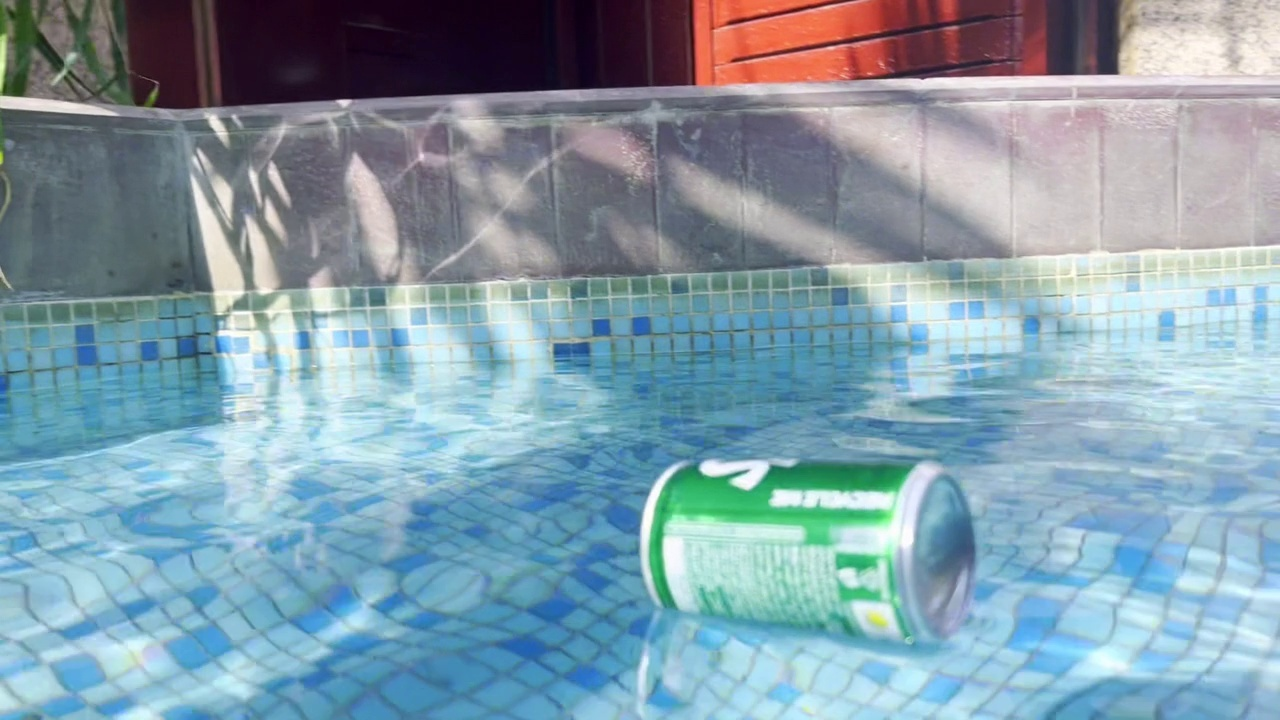debris: (635, 437, 977, 650)
